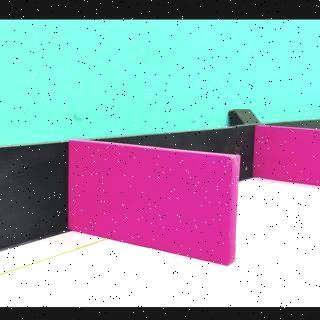xparking: (80, 159, 232, 263), (260, 130, 316, 183)
